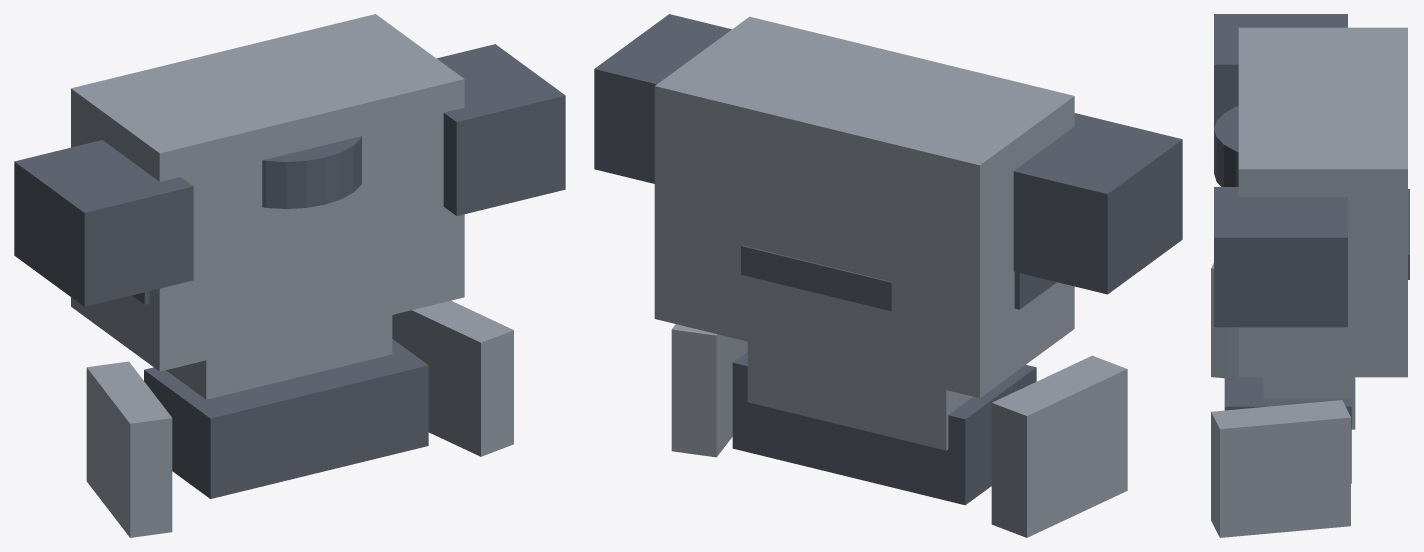
File: procedural_body_upper.glb
The picture shows the model from 3 angles, left to right: view 1: azimuth 30°, elevation 25°; view 2: azimuth 150°, elevation 25°; view 3: azimuth 270°, elevation 25°; orthographic projection. The views are drawn at different scales.
Parts seen in each view (by area): view 1: Chest, Pelvis, ShoulderCowl_L, ShoulderCowl_R, Skirt_R, Skirt_L, AbPlate, NeckCowl; view 2: Chest, ShoulderCowl_L, Skirt_L, Pelvis, AbPlate, ShoulderCowl_R, Skirt_R, CenterTrim, Vent_L; view 3: Chest, ShoulderCowl_R, Skirt_R, ShoulderCowl_L, Pelvis, AbPlate, NeckCowl, Skirt_L.
Part boxes in pixels (x1,y1,x2,y2): Chest: (71, 14, 464, 371); Pelvis: (144, 339, 428, 498); ShoulderCowl_L: (14, 140, 193, 306); ShoulderCowl_R: (437, 44, 565, 215); Skirt_R: (392, 300, 513, 456); Skirt_L: (86, 361, 172, 537); AbPlate: (166, 315, 392, 399); NeckCowl: (262, 136, 361, 208); Chest: (654, 16, 1074, 398); ShoulderCowl_L: (1013, 113, 1182, 294); Skirt_L: (991, 355, 1127, 537); Pelvis: (732, 352, 1036, 505); AbPlate: (747, 341, 972, 450); ShoulderCowl_R: (594, 14, 731, 183); Skirt_R: (671, 324, 747, 457); CenterTrim: (741, 245, 892, 311); Vent_L: (1014, 272, 1056, 309); Chest: (1238, 27, 1407, 377); ShoulderCowl_R: (1214, 187, 1347, 327); Skirt_R: (1211, 400, 1350, 537); ShoulderCowl_L: (1214, 14, 1347, 128); Pelvis: (1224, 327, 1351, 483); AbPlate: (1263, 377, 1355, 429); NeckCowl: (1214, 106, 1238, 186); Skirt_L: (1211, 263, 1224, 378).
Bounding box in the file's own units: 1.5 × 1.09 × 0.5633.
